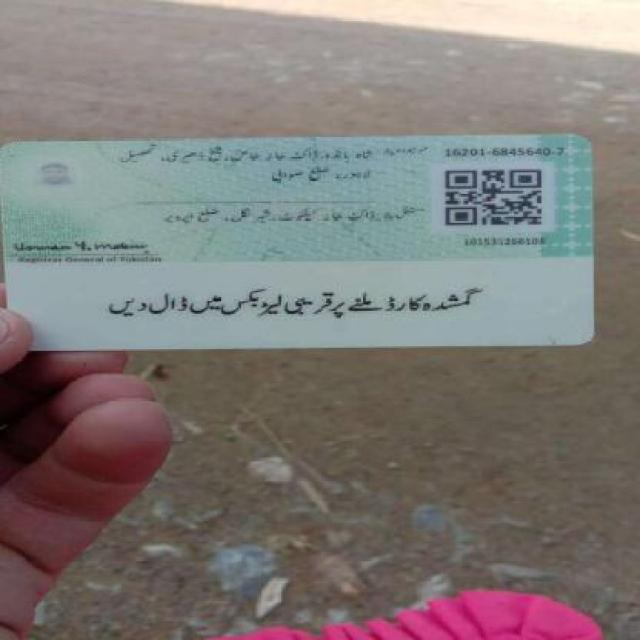Back: (2, 134, 600, 351)
